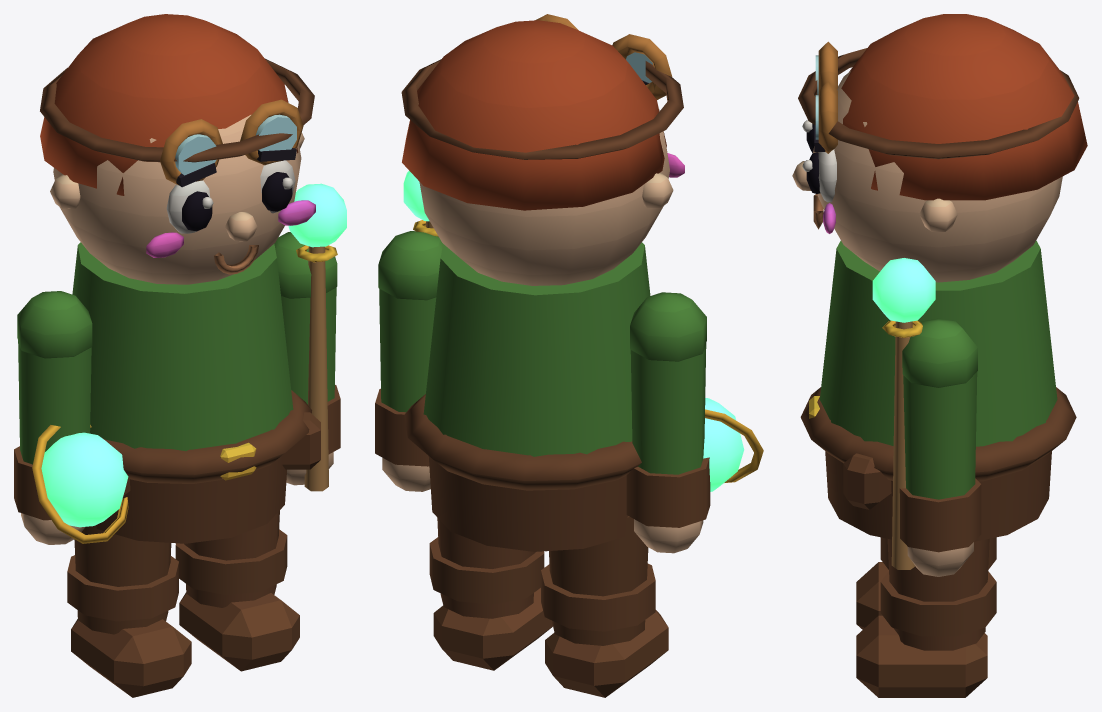
File: hero_fennick.glb
3 views of the same model, side by side, from view 1: azimuth 30°, elevation 25°; view 2: azimuth 150°, elevation 25°; view 3: azimuth 270°, elevation 25° (orthographic). The views are drawn at different scales.
Visible parts, largest first — view 1: body_t0_palette, legl_t0_palette, arml_t0_palette, legr_t0_palette, armr_t0_palette, arml_t0_brew_green, armr_t0_brew_green; view 2: body_t0_palette, arml_t0_palette, legl_t0_palette, legr_t0_palette, armr_t0_palette, arml_t0_brew_green, armr_t0_brew_green; view 3: body_t0_palette, armr_t0_palette, legr_t0_palette, armr_t0_brew_green, legl_t0_palette.
Part boxes in pixels (box(x1,y1,x2,y2)): body_t0_palette: box(40, 14, 320, 543); legl_t0_palette: box(67, 525, 191, 697); arml_t0_palette: box(14, 291, 128, 544); legr_t0_palette: box(175, 510, 299, 671); armr_t0_palette: box(274, 232, 340, 491); arml_t0_brew_green: box(41, 432, 128, 527); armr_t0_brew_green: box(288, 183, 346, 247); body_t0_palette: box(401, 14, 684, 551); arml_t0_palette: box(626, 292, 763, 553); legl_t0_palette: box(541, 516, 668, 697); legr_t0_palette: box(429, 518, 552, 670); armr_t0_palette: box(375, 220, 442, 491); arml_t0_brew_green: box(703, 398, 744, 491); armr_t0_brew_green: box(403, 170, 429, 221); body_t0_palette: box(792, 14, 1087, 541); armr_t0_palette: box(882, 318, 981, 576); legr_t0_palette: box(856, 538, 996, 697); armr_t0_brew_green: box(872, 258, 935, 322); legl_t0_palette: box(856, 537, 996, 629).
Size of the model in its own units: 0.285 by 0.508 by 0.214.
